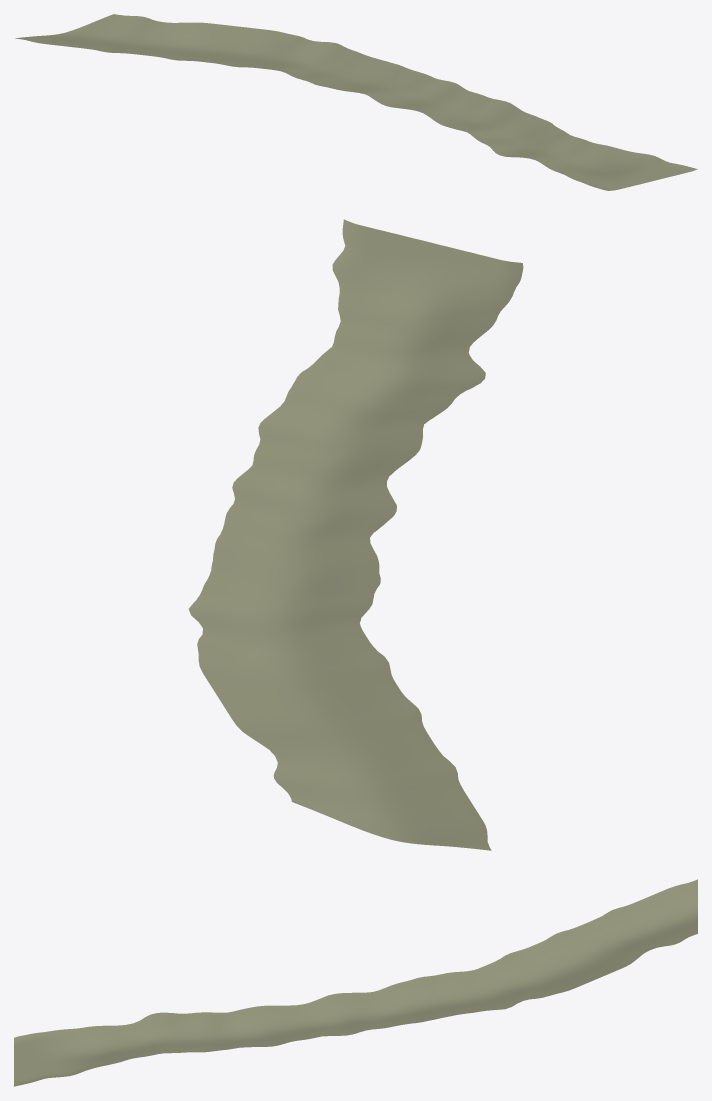
File: SM_ForestBed_MiddleBend.fbx
3 renders of one model, top to bottom at view 1: azimuth 30°, elevation 25°; view 2: azimuth 150°, elevation 25°; view 3: azimuth 270°, elevation 25°, orthographic. The views are drawn at different scales.
Visible parts, largest first — view 1: SM_ForestBed_MiddleBend; view 2: SM_ForestBed_MiddleBend; view 3: SM_ForestBed_MiddleBend.
Boxes of the visible parts, x1,y1,x2,y2 form: SM_ForestBed_MiddleBend: [15, 14, 697, 190]; SM_ForestBed_MiddleBend: [188, 219, 523, 850]; SM_ForestBed_MiddleBend: [14, 879, 697, 1086].
Size of the model in its own units: 3082 by 4295 by 53.05.
